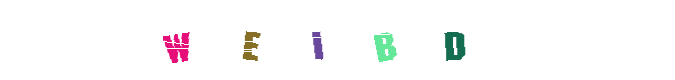B: (340, 0, 420, 80)
D: (375, 0, 455, 80)
E: (210, 0, 290, 80)
I: (298, 0, 378, 80)
W: (137, 0, 217, 80)
